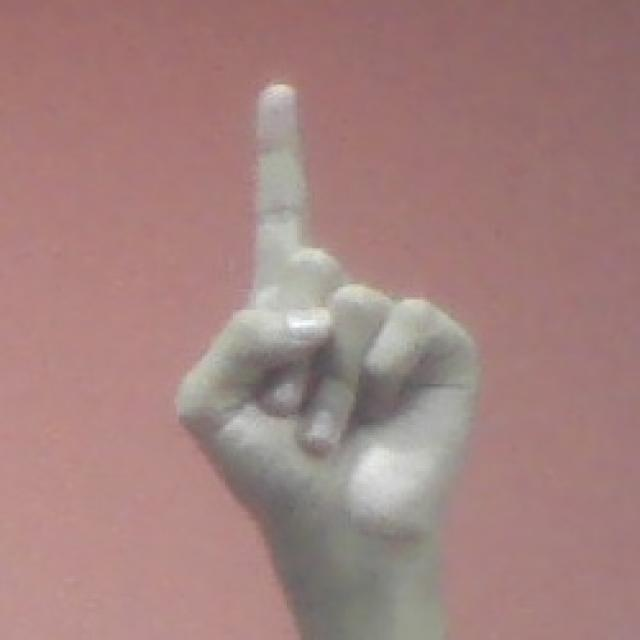Numeric-1: (183, 80, 484, 580)
